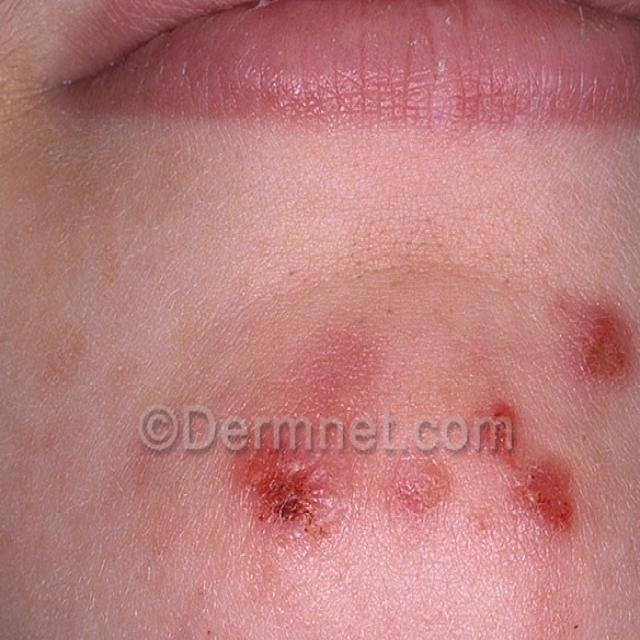Acne: (390, 415, 602, 594), (201, 404, 362, 604), (560, 281, 640, 398)
